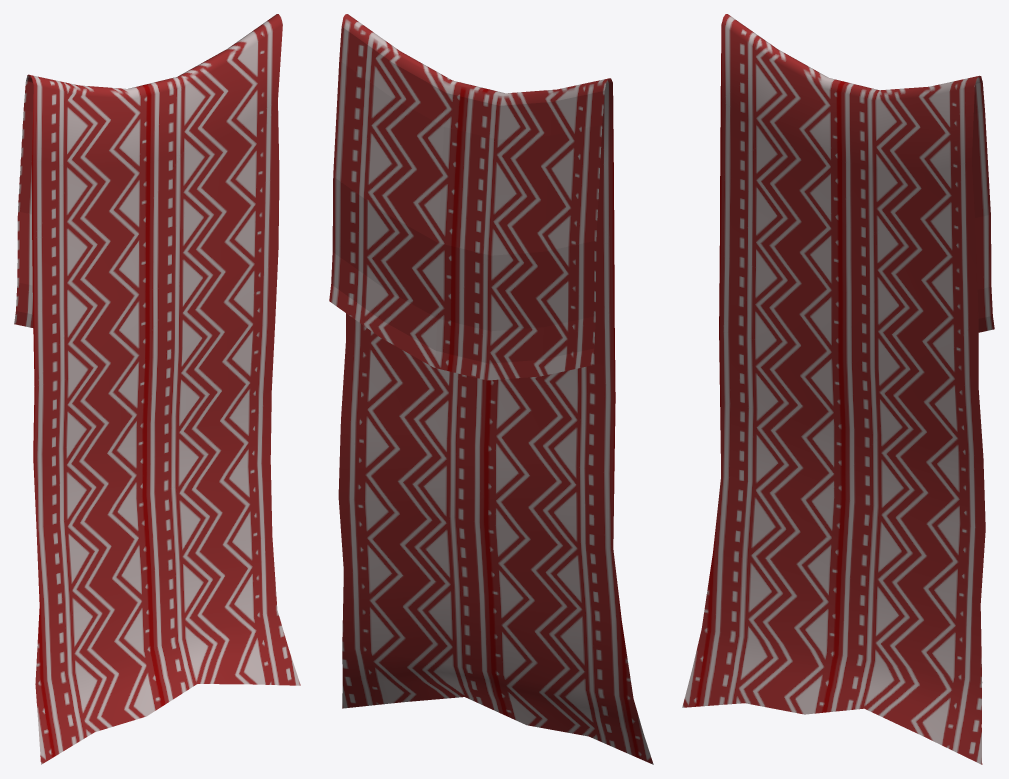
Rendered from SM_flag_01.fbx.
3 renders of one model, left to right at view 1: azimuth 30°, elevation 25°; view 2: azimuth 150°, elevation 25°; view 3: azimuth 330°, elevation 25°, orthographic. The views are drawn at different scales.
Visible parts, largest first — view 1: flag_01; view 2: flag_01; view 3: flag_01.
Boxes of the visible parts, x1,y1,x2,y2 form: flag_01: (14, 14, 300, 764); flag_01: (329, 14, 653, 764); flag_01: (682, 14, 994, 764).
Size of the model in its own units: 116 by 266 by 30.84.
